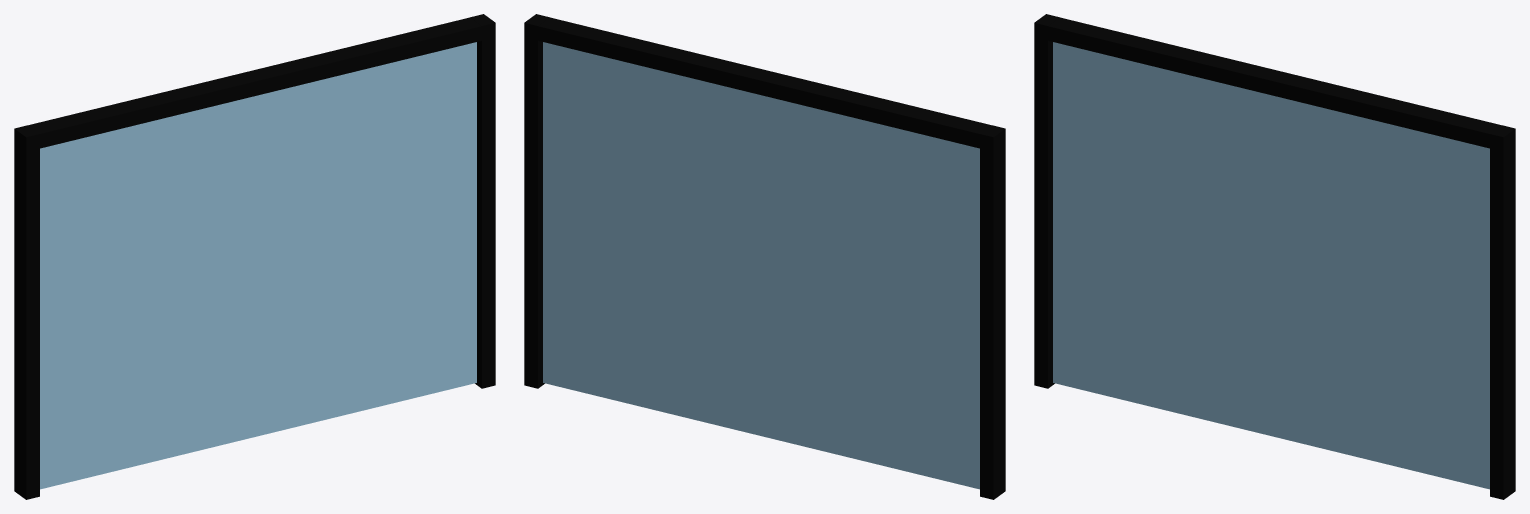
Rendered from automaticDoors.fbx.
The picture shows the model from 3 angles, left to right: view 1: azimuth 30°, elevation 25°; view 2: azimuth 150°, elevation 25°; view 3: azimuth 330°, elevation 25°; orthographic projection.
Parts seen in each view (by area): view 1: Cube.003, Cube.002, Cube, Cube.001; view 2: Cube.003, Cube.002, Cube, Cube.001; view 3: Cube.003, Cube.002, Cube.001, Cube.
Boxes of the visible parts, x1,y1,x2,y2 form: Cube.003: (40,42,476,489); Cube.002: (28,17,486,149); Cube: (14,125,39,499); Cube.001: (470,14,495,388); Cube.003: (543,42,979,489); Cube.002: (538,17,991,150); Cube: (980,125,1005,499); Cube.001: (524,14,549,388); Cube.003: (1053,42,1489,489); Cube.002: (1039,17,1501,149); Cube.001: (1490,125,1515,499); Cube: (1034,14,1059,388).
Size of the model in its own units: 1355 by 1000 by 60.
